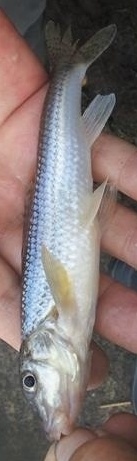Gobio gobio: (20, 20, 117, 441)
